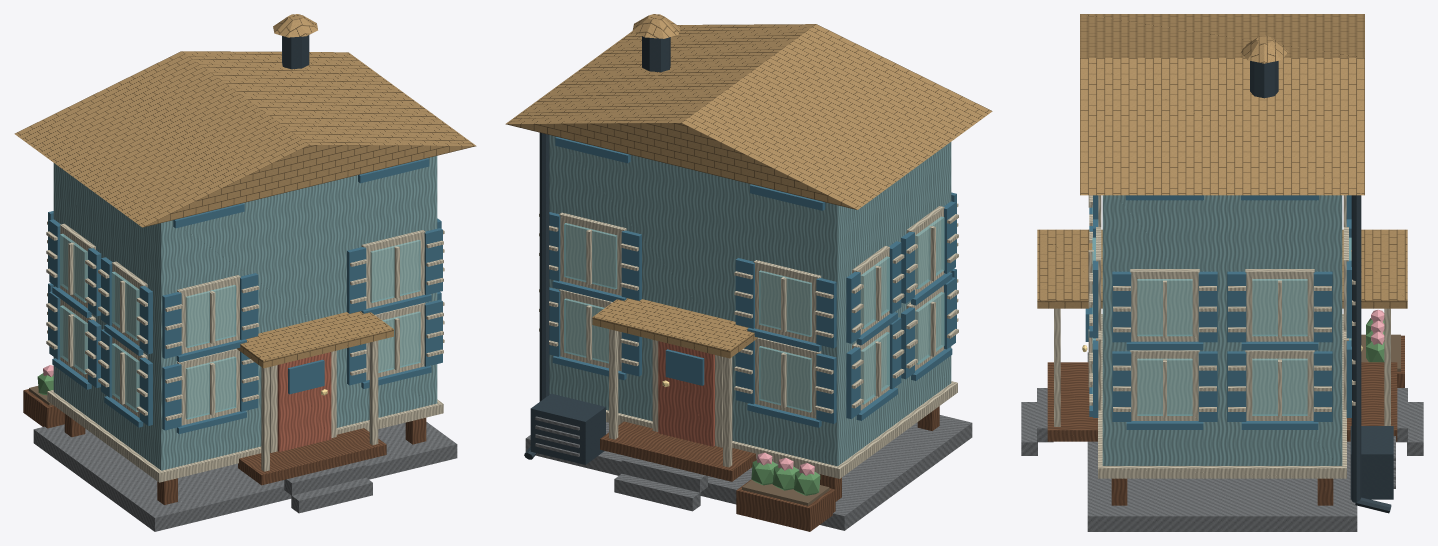
File: house_lv5.glb
3 views of the same model, side by side, from view 1: azimuth 30°, elevation 25°; view 2: azimuth 150°, elevation 25°; view 3: azimuth 270°, elevation 25° (orthographic). The views are drawn at different scales.
Visible parts, largest first — view 1: gable_roof, walls, foundation, front_porch_canopy, front_deck, front_door, floor_trim, front_window_frame.003, front_window_frame.002, front_window_frame, front_window_frame.001, front_window_glass (+41 smaller); view 2: gable_roof, walls, foundation, back_porch_canopy, back_deck, back_door, back_window_frame.002, back_ac_unit, back_window_frame.003, back_window_frame, floor_trim, back_downspout (+45 smaller); view 3: gable_roof, walls, foundation, right_window_frame.002, right_window_frame.003, right_window_frame, right_window_frame.001, front_porch_canopy, floor_trim, back_porch_canopy, front_deck, back_downspout (+31 smaller).
Part boxes in pixels (left/top/right/bottom): gable_roof: left=14, top=51, right=476, bottom=227; walls: left=53, top=156, right=437, bottom=470; foundation: left=33, top=422, right=457, bottom=531; front_porch_canopy: left=237, top=311, right=393, bottom=368; front_deck: left=238, top=428, right=386, bottom=485; front_door: left=277, top=352, right=331, bottom=451; floor_trim: left=47, top=390, right=443, bottom=482; front_window_frame.003: left=361, top=230, right=425, bottom=308; front_window_frame.002: left=177, top=275, right=240, bottom=353; front_window_frame: left=177, top=348, right=239, bottom=425; front_window_frame.001: left=366, top=302, right=425, bottom=380; front_window_glass: left=185, top=356, right=236, bottom=419; gable_roof: left=505, top=24, right=992, bottom=209; walls: left=549, top=135, right=951, bottom=466; foundation: left=525, top=415, right=972, bottom=530; back_porch_canopy: left=592, top=298, right=757, bottom=358; back_deck: left=600, top=421, right=756, bottom=481; back_door: left=658, top=341, right=714, bottom=446; back_window_frame.002: left=753, top=260, right=821, bottom=343; back_ac_unit: left=530, top=393, right=605, bottom=464; back_window_frame.003: left=559, top=212, right=626, bottom=295; back_window_frame: left=754, top=337, right=821, bottom=418; floor_trim: left=606, top=381, right=957, bottom=478; back_downspout: left=539, top=132, right=549, bottom=401; gable_roof: left=1080, top=14, right=1364, bottom=195; walls: left=1102, top=195, right=1342, bottom=465; foundation: left=1087, top=352, right=1357, bottom=531; right_window_frame.002: left=1130, top=269, right=1199, bottom=341; right_window_frame.003: left=1245, top=269, right=1314, bottom=341; right_window_frame: left=1130, top=350, right=1199, bottom=420; right_window_frame.001: left=1245, top=350, right=1314, bottom=420; front_porch_canopy: left=1037, top=229, right=1102, bottom=308; floor_trim: left=1098, top=314, right=1346, bottom=478; back_porch_canopy: left=1342, top=229, right=1407, bottom=308; front_deck: left=1047, top=362, right=1097, bottom=441; back_downspout: left=1351, top=195, right=1361, bottom=502.
Size of the model in its own units: 6.6 by 7.6 by 6.19.
13 materials, 7 textured.
